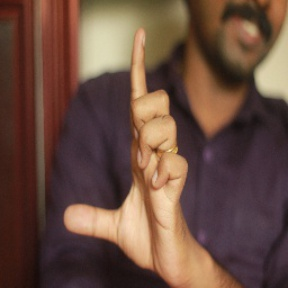L: (61, 27, 192, 259)
